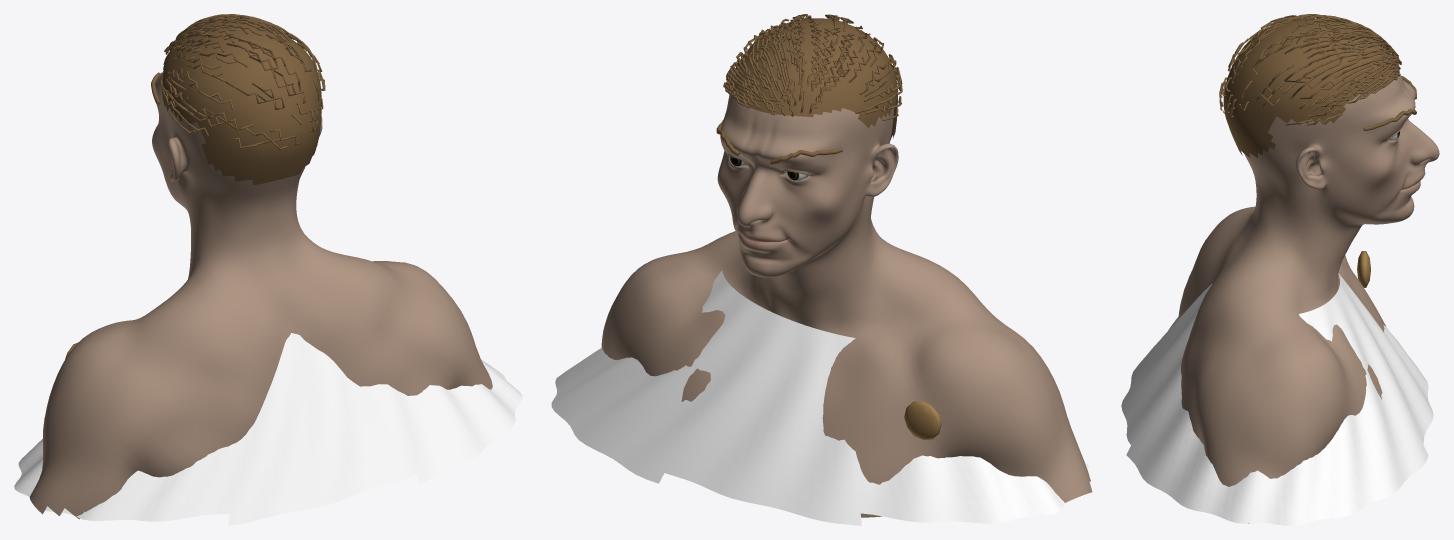
Rendered from envoy_020.glb.
3 renders of one model, left to right at view 1: azimuth 30°, elevation 25°; view 2: azimuth 150°, elevation 25°; view 3: azimuth 270°, elevation 25°, orthographic. The views are drawn at different scales.
Parts seen in each view (by area): view 1: Envoy 020 body, Folded shoulder mantle, Envoy 020 fitted scalp; view 2: Envoy 020 body, Folded shoulder mantle, Envoy 020 fitted scalp, Shoulder clasp; view 3: Envoy 020 body, Folded shoulder mantle, Envoy 020 fitted scalp, Shoulder clasp.
Part boxes in pixels (x1,y1,x2,y2): Envoy 020 body: (29, 70, 492, 519); Folded shoulder mantle: (14, 333, 522, 525); Envoy 020 fitted scalp: (162, 20, 321, 184); Envoy 020 body: (601, 94, 1092, 517); Folded shoulder mantle: (551, 270, 1088, 525); Envoy 020 fitted scalp: (728, 18, 897, 140); Shoulder clasp: (904, 401, 941, 439); Envoy 020 body: (1178, 72, 1439, 523); Folded shoulder mantle: (1121, 273, 1433, 525); Envoy 020 fitted scalp: (1223, 19, 1399, 157); Shoulder clasp: (1357, 251, 1370, 287).
Size of the model in its own units: 0.3039 by 0.2464 by 0.1802.
